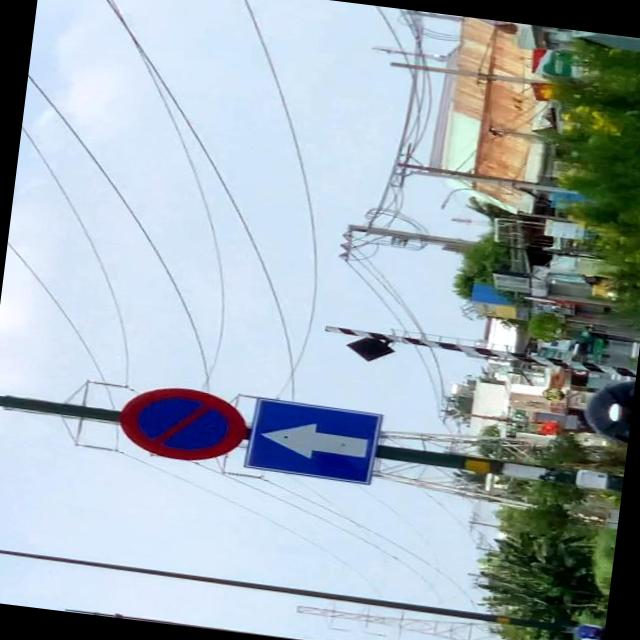I-407a: (242, 398, 380, 484)
P-131a: (114, 378, 250, 464)
